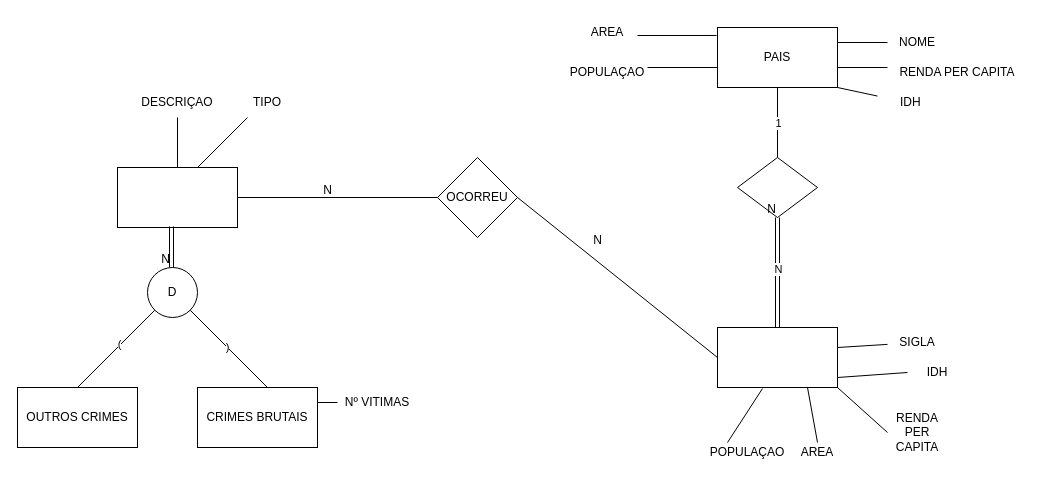
The diagram is 1045 pixels wide and 484 high, and some of its shapes have lost their labels. The shapes that lost their labels are listed below. From the top down, each one's box as (x1, y1, x2, y2) in pixels, then its label:
(116, 166, 238, 228): CRIMES
(736, 156, 818, 218): PERTENCE
(716, 326, 838, 388): ESTADO
